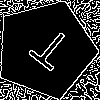T: (20, 24, 76, 79)
